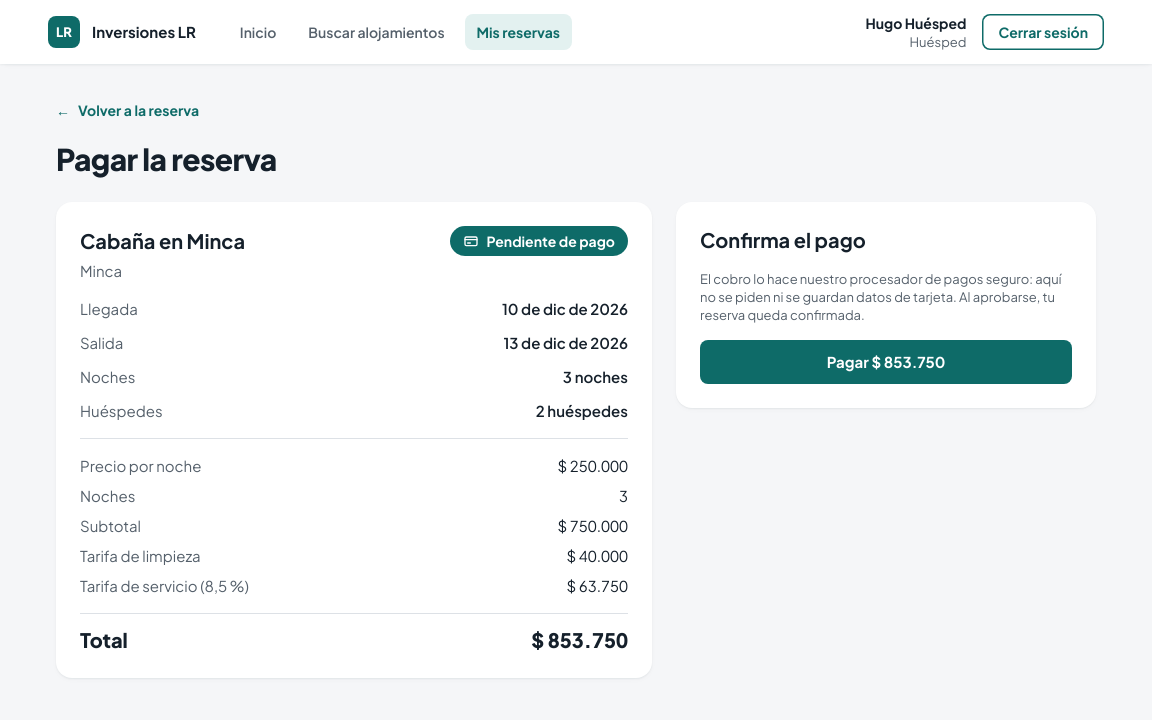
pago de la reserva › desenlaces › 202: pide esperar y consultar la reserva, y nunca ofrece reintentar el cobro
This screenshot has width=1152, height=720.
Later steps or results of the test are not shown.
Expected: the heading "Cabaña en Minca" is shown, x1=80 y1=227 x2=245 y2=255
Click the button "Pagar $ 853.750": (886, 362) x1=700 y1=340 x2=1072 y2=384
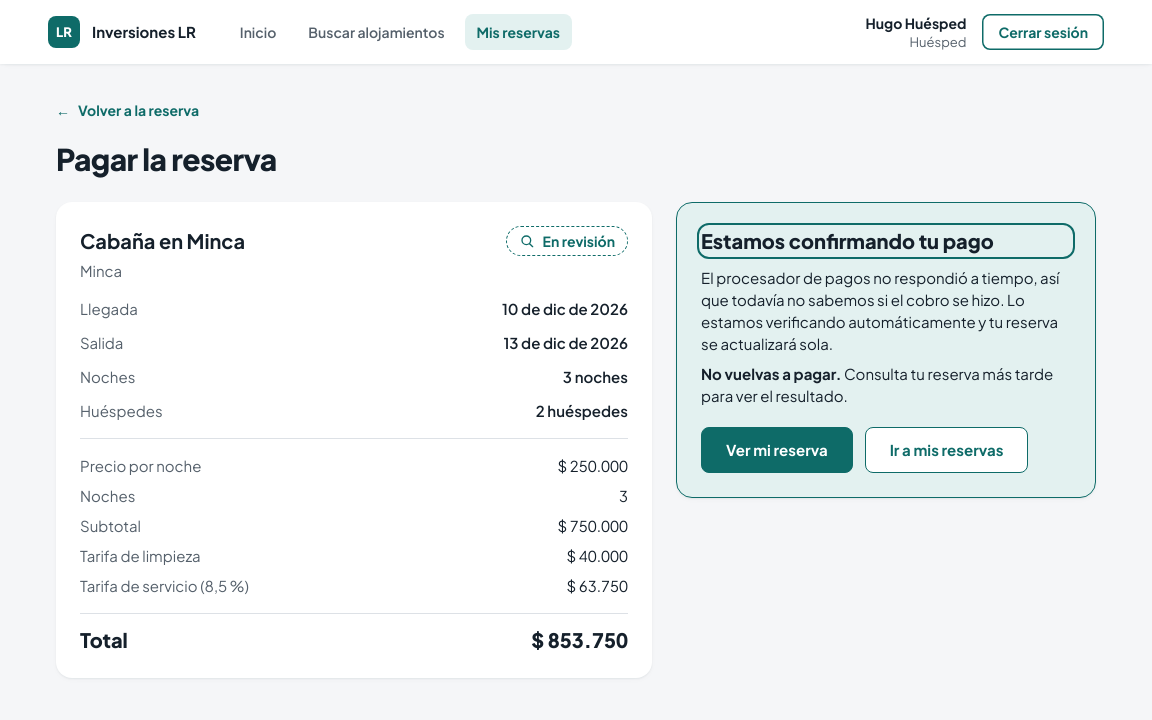
Expected: the message shows "No vuelvas a pagar.", x1=701 y1=364 x2=842 y2=383
Expected: the message shows "Consulta tu reserva más tarde", x1=701 y1=364 x2=1053 y2=405
